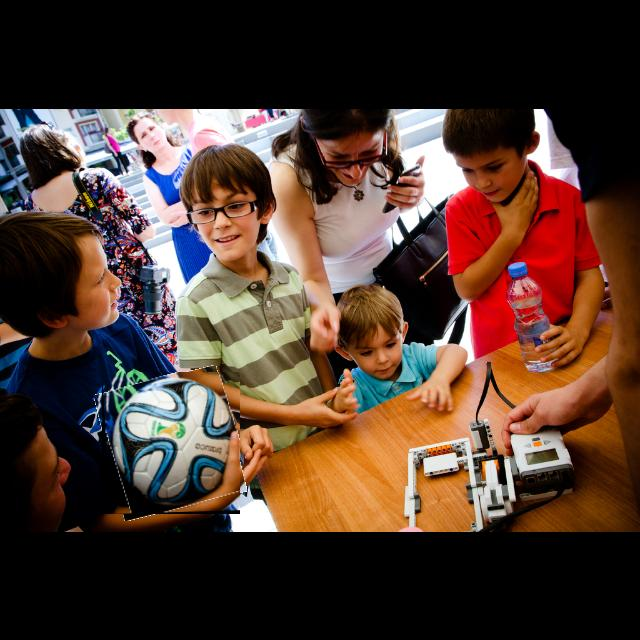Football: (102, 372, 240, 514)
